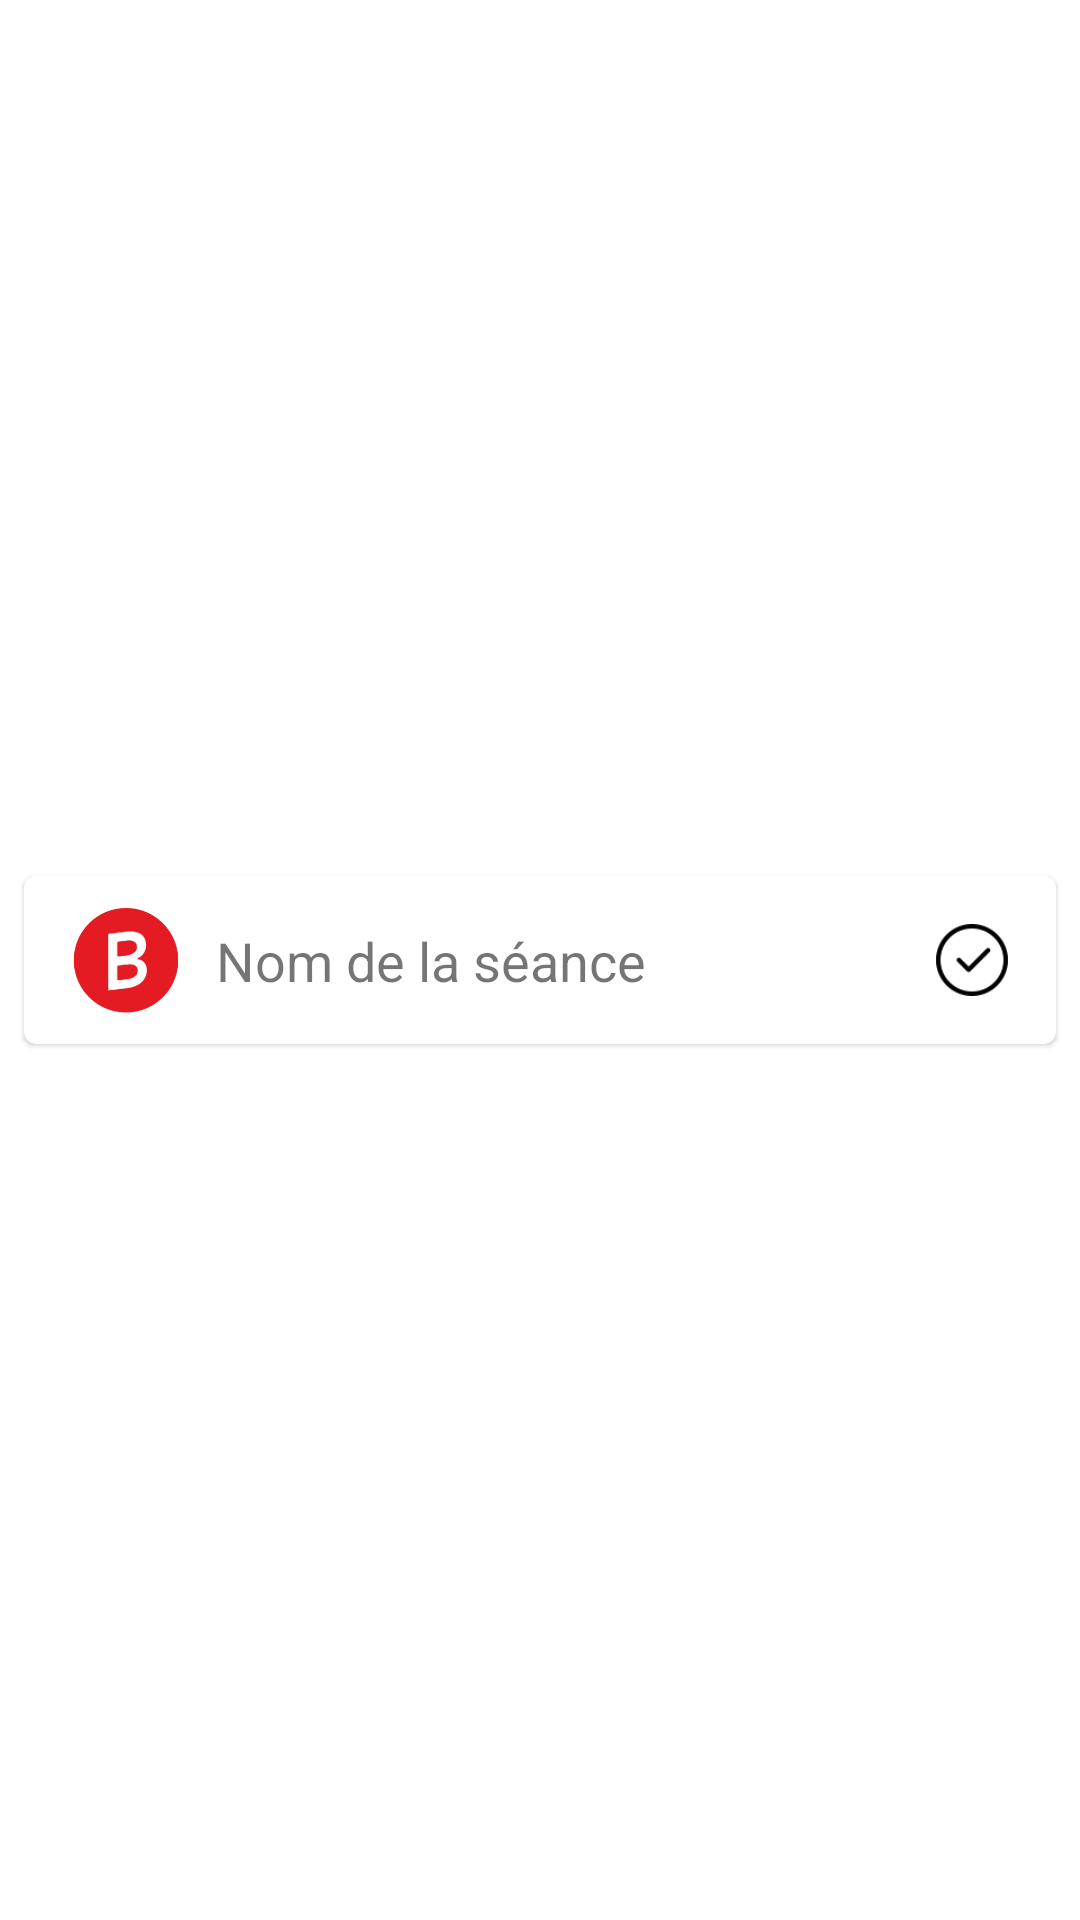

Screen size 1080x1920. Icon name, then its box in pixels as (x1, y1, x2, y2):
tocheck: (936, 924, 1008, 996)
